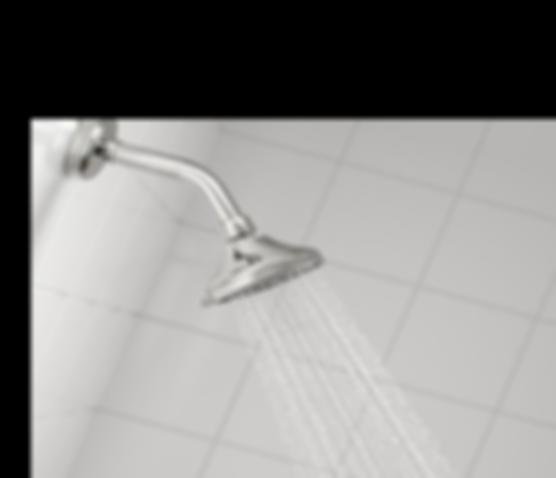Ducha: (31, 119, 556, 478)
